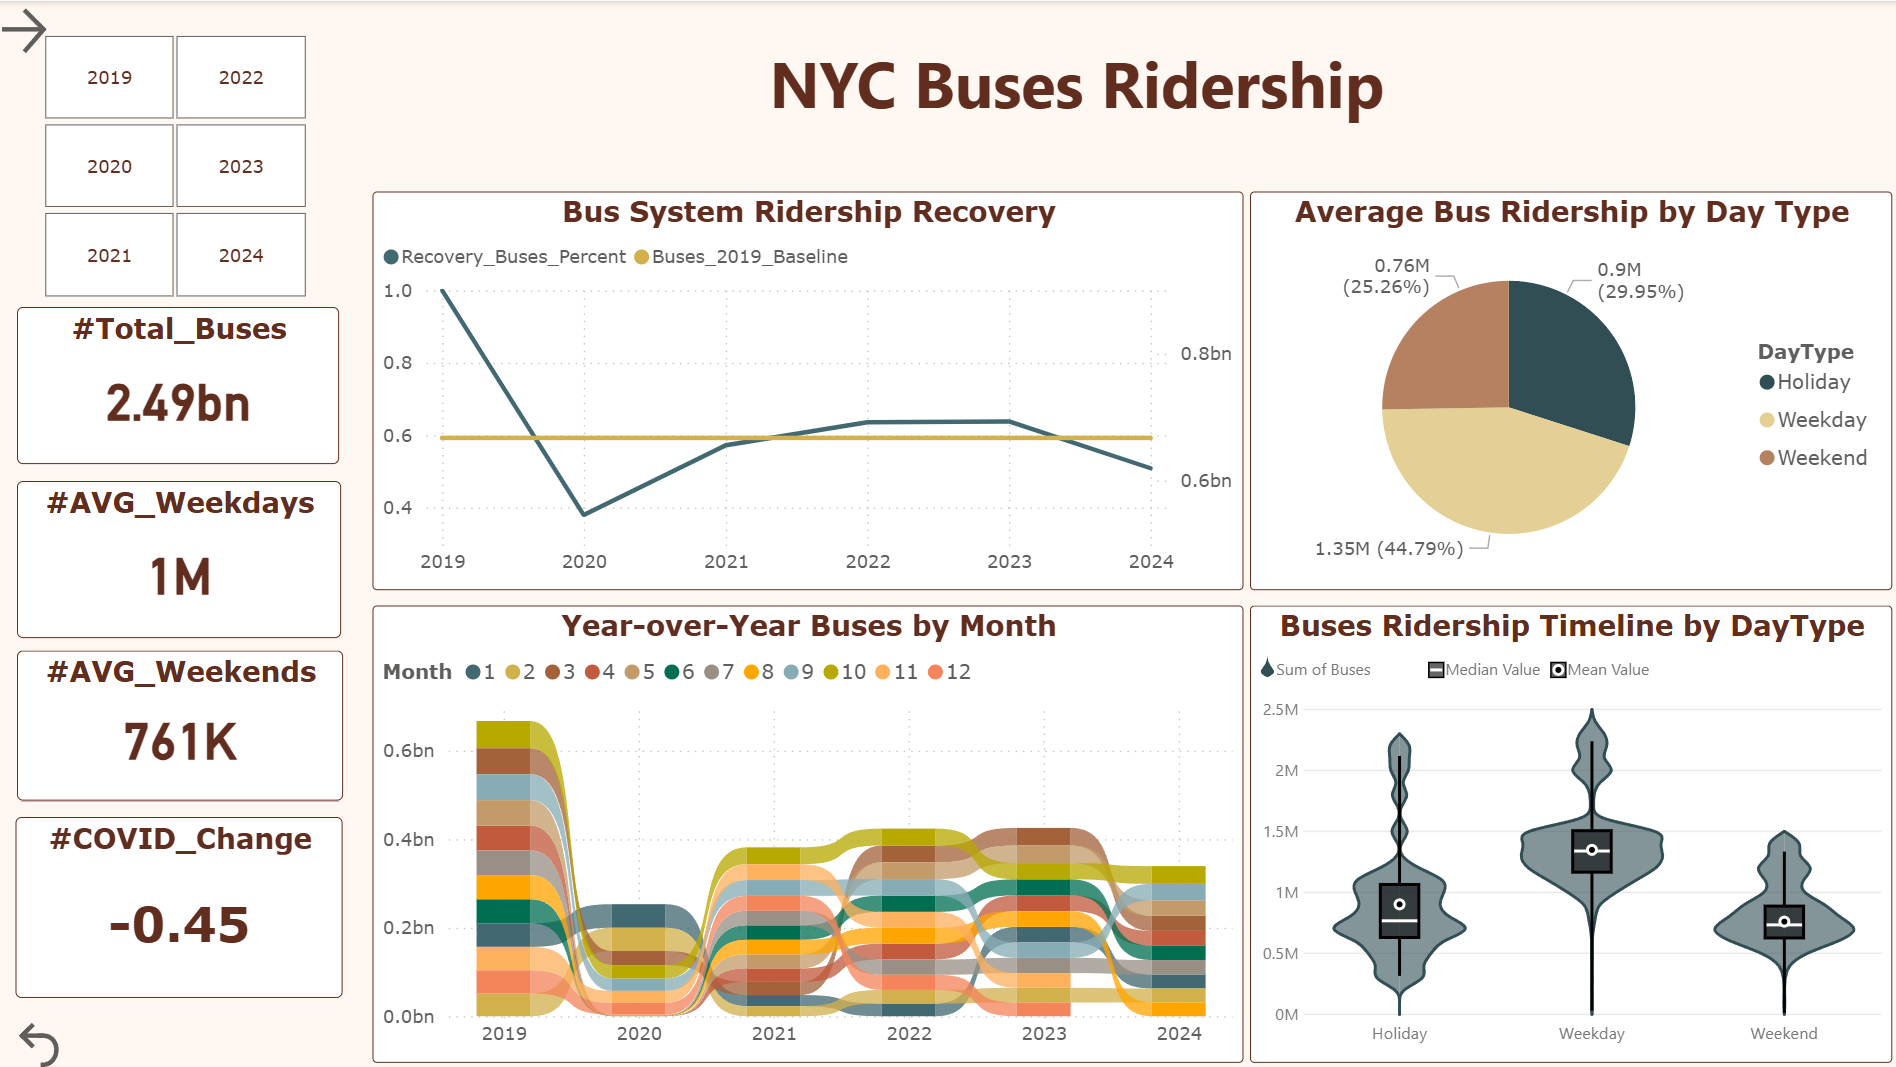

Layout of this report page (visuals, bound fields, positions):
{"tool":"powerbi","page":{"name":"Buses","canvas":[1280,720],"ordinal":2},"visuals":[{"type":"advanceCardE03760C5AB684758B56AA29F9E6C257B","title":"#Total_Buses","fields":{"mainMeasure":["Sum(Final.Buses)"]},"box":[16,204.9,216,105.5],"z":0},{"type":"advanceCardE03760C5AB684758B56AA29F9E6C257B","title":"#AVG_Weekdays","fields":{"mainMeasure":["Final.Avg_Weekday_Buses"]},"box":[16,321.5,217.2,105.5],"z":1000},{"type":"advanceCardE03760C5AB684758B56AA29F9E6C257B","title":"#AVG_Weekends","fields":{"mainMeasure":["Final.Avg_Weekend_Buses"]},"box":[16,435.6,218.4,100.6],"z":2000},{"type":"card","title":"#COVID_Change","fields":{"Values":["Final.COVID_Change_Percent for Buses"]},"box":[14.7,547.2,219.6,121.5],"z":3000},{"type":"slicer","fields":{"Values":["Final.Date.Variation.Date Hierarchy.Year"]},"box":[8.6,16,224.5,189],"z":4000},{"type":"textbox","box":[357.1,19.6,750.9,93.3],"z":5000},{"type":"lineChart","title":"Bus System Ridership Recovery","fields":{"Category":["Final.Date.Variation.Date Hierarchy.Year","Final.Date.Variation.Date Hierarchy.Quarter","Final.Date.Variation.Date Hierarchy.Month","Final.Date.Variation.Date Hierarchy.Day"],"Y":["Final.Recovery_Buses_Percent"],"Y2":["Final.Buses_2019_Baseline"]},"box":[254,127.6,584.1,267.5],"z":6000},{"type":"pieChart","title":"Average Bus Ridership by Day Type","fields":{"Category":["Final.DayType"],"Y":["Final.Avg_Holiday_Buses","Final.Avg_Weekday_Buses","Final.Avg_Weekend_Buses"]},"box":[842.9,127.6,430.7,267.5],"z":7000},{"type":"ribbonChart","title":"Year-over-Year Buses by Month","fields":{"Category":["Final.Year"],"Series":["Final.Month"],"Y":["Final.Total Buses"]},"box":[254,404.9,584.1,306.8],"z":8000},{"type":"violinPlot4D46EB9EB3A141D9BA2289793175D971","title":"Buses Ridership Timeline by DayType","fields":{"category":["Final.DayType"],"measure":["Sum(Final.Buses)"],"sampling":["Final.Date"]},"box":[842.9,404.9,430.7,306.8],"z":9000},{"type":"actionButton","box":[0,0,100,40],"z":10000},{"type":"actionButton","box":[10.9,680.2,100.1,39.8],"z":11000}]}

Visuals, with their boxes in screenshot pixels (x1, y1, x2, y2), scaled from the page's 1280x720 canvas onto the 1896x1067 screenshot:
"#Total_Buses" advanceCardE03760C5AB684758B56AA29F9E6C257B: x1=24, y1=304, x2=344, y2=460
"#AVG_Weekdays" advanceCardE03760C5AB684758B56AA29F9E6C257B: x1=24, y1=476, x2=345, y2=633
"#AVG_Weekends" advanceCardE03760C5AB684758B56AA29F9E6C257B: x1=24, y1=646, x2=347, y2=795
"#COVID_Change" card: x1=22, y1=811, x2=347, y2=991
slicer - Final.Date.Variation.Date Hierarchy.Year: x1=13, y1=24, x2=345, y2=304
textbox: x1=529, y1=29, x2=1641, y2=167
"Bus System Ridership Recovery" lineChart: x1=376, y1=189, x2=1241, y2=586
"Average Bus Ridership by Day Type" pieChart: x1=1249, y1=189, x2=1887, y2=586
"Year-over-Year Buses by Month" ribbonChart: x1=376, y1=600, x2=1241, y2=1055
"Buses Ridership Timeline by DayType" violinPlot4D46EB9EB3A141D9BA2289793175D971: x1=1249, y1=600, x2=1887, y2=1055
actionButton: x1=0, y1=0, x2=148, y2=59
actionButton: x1=16, y1=1008, x2=164, y2=1066
